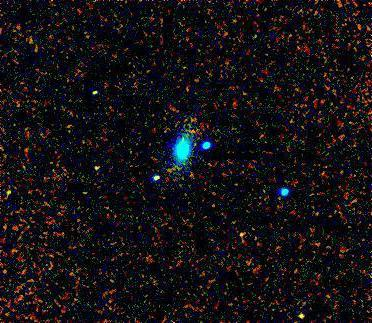star: (292, 299, 322, 323)
